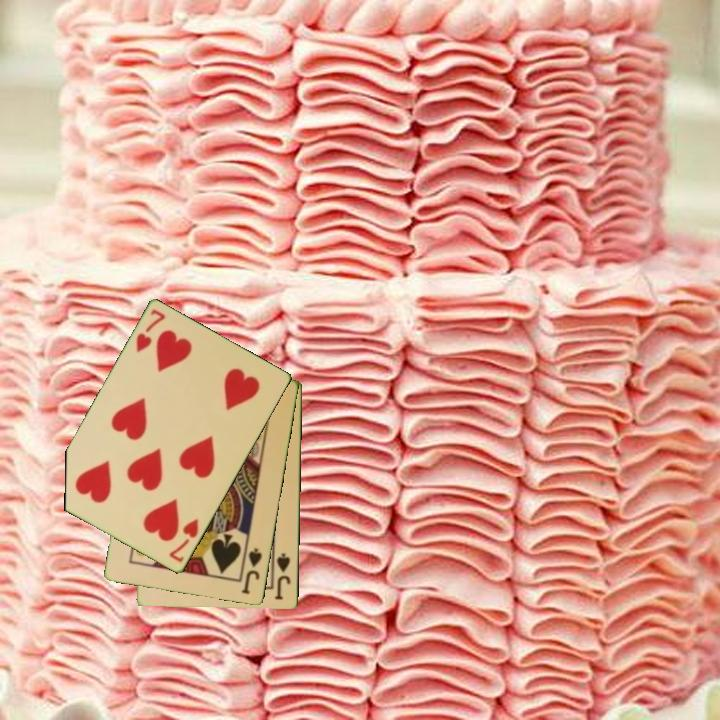7h: (166, 516, 202, 566), (132, 306, 168, 356)
Js: (238, 545, 265, 597), (272, 550, 294, 603)
